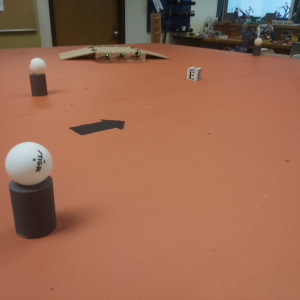blockE: (185, 67, 203, 84)
corner: (149, 13, 163, 46)
obstacle: (6, 143, 59, 240), (29, 58, 52, 101), (253, 39, 263, 58)
side: (93, 51, 143, 63)
slope: (58, 47, 93, 62), (145, 48, 172, 66)
start: (68, 115, 126, 134)
